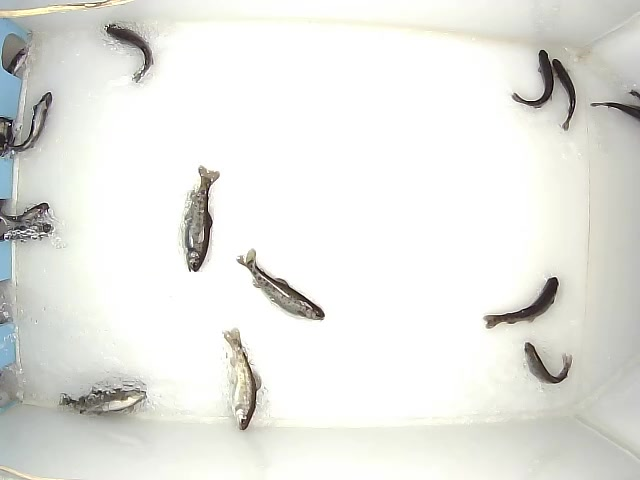fish: (236, 248, 325, 321), (483, 277, 559, 329), (184, 165, 220, 272), (224, 327, 261, 430), (104, 23, 154, 83), (5, 92, 52, 152), (511, 49, 554, 109), (58, 387, 147, 415), (524, 342, 573, 384), (552, 59, 576, 131), (1, 203, 50, 227), (2, 222, 54, 241), (6, 46, 29, 75)
